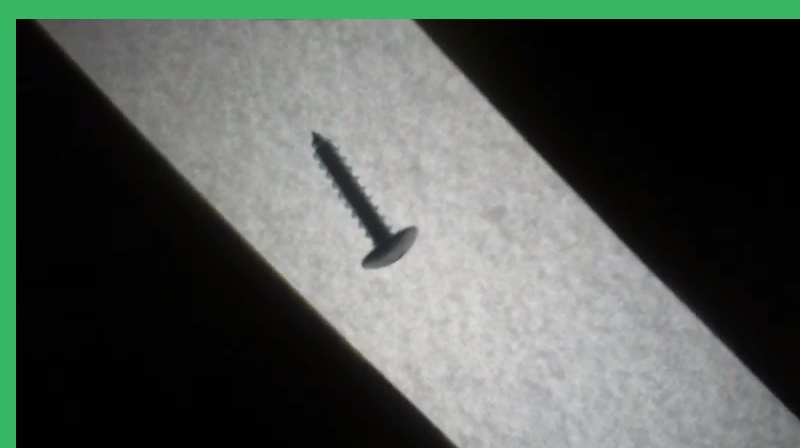S003: (306, 127, 420, 271)
